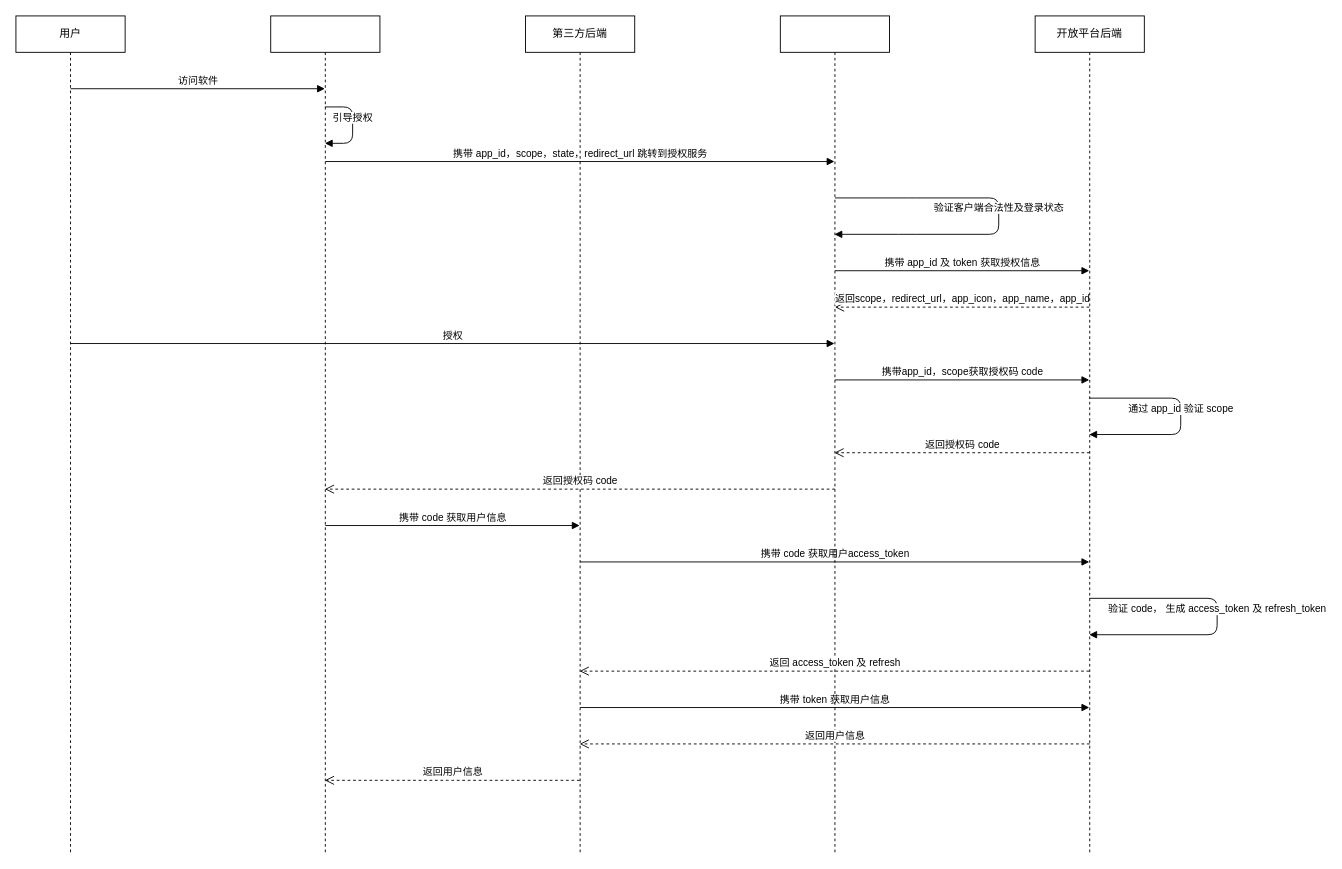
This 1342x869 diagram has some shape labels left out. Here are the shapes that lost their labels. From the top down, the box of each, then its label:
(270, 15, 380, 853): 第三方前端
(779, 15, 890, 853): 开放平台前端
